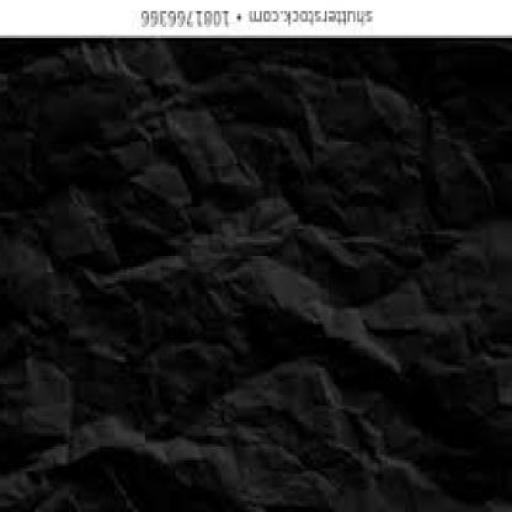paper: (1, 39, 511, 511)
